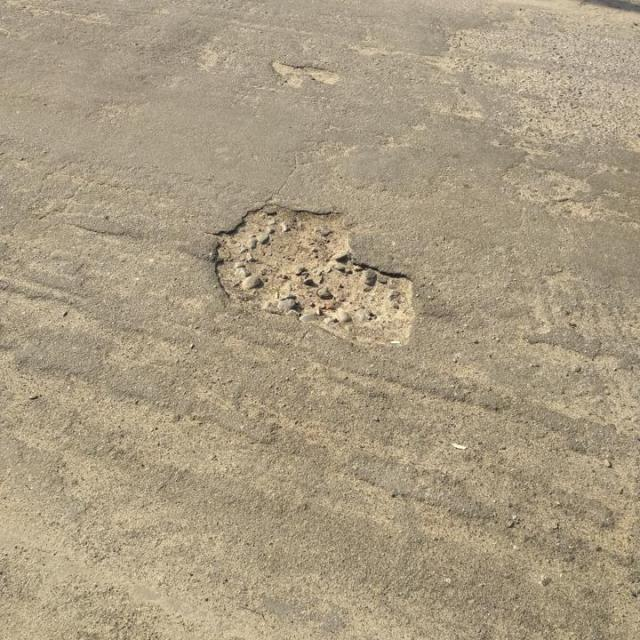pothole: (212, 194, 424, 346), (266, 58, 342, 86)
